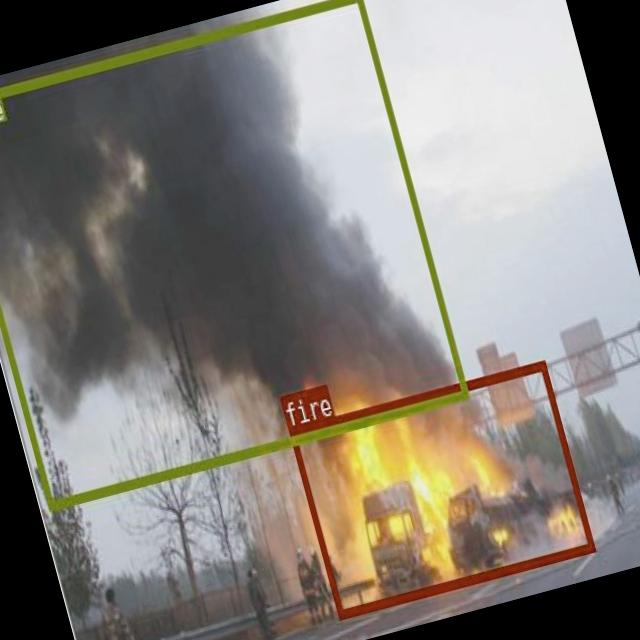fire: (287, 358, 594, 618)
smoke: (0, 0, 467, 508)
